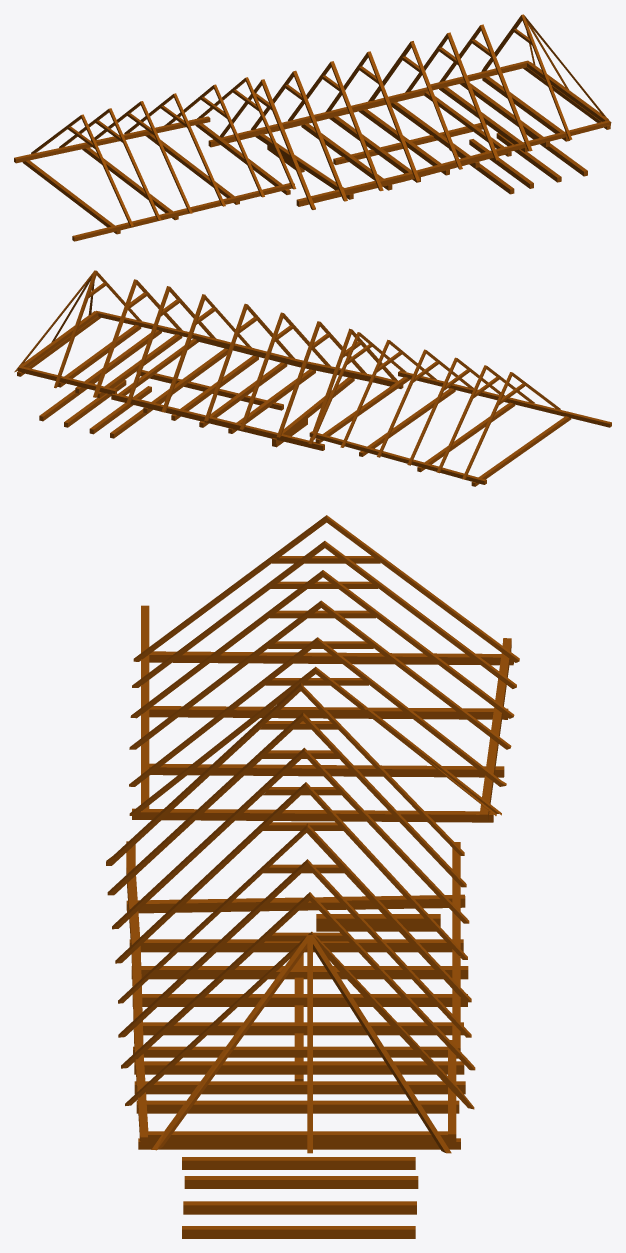
File: krovy.dae
The picture shows the model from 3 angles, top to bottom: view 1: azimuth 30°, elevation 25°; view 2: azimuth 150°, elevation 25°; view 3: azimuth 270°, elevation 25°; orthographic projection. The views are drawn at different scales.
Parts seen in each view (by area): view 1: group_15, group_18, group_22, group_47, group_48, group_51, group_46, group_53, group_17, group_24, group_21, group_12 (+30 smaller); view 2: group_15, group_18, group_22, group_48, group_47, group_46, group_51, group_53, group_17, group_21, group_24, group_12 (+30 smaller); view 3: group_11, group_60, group_46, group_47, group_48, group_51, group_10, group_9, group_53, group_21, group_0, group_1 (+37 smaller).
Boxes of the visible parts, x1,y1,x2,y2 form: group_15: [208, 87, 428, 147]; group_18: [72, 183, 294, 241]; group_22: [14, 116, 210, 163]; group_47: [325, 51, 419, 180]; group_48: [368, 41, 462, 169]; group_51: [405, 32, 499, 160]; group_46: [439, 24, 532, 151]; group_53: [481, 14, 568, 131]; group_17: [401, 146, 507, 181]; group_24: [333, 123, 486, 164]; group_21: [22, 160, 120, 234]; group_12: [359, 109, 449, 175]; group_15: [111, 393, 324, 450]; group_18: [398, 370, 611, 427]; group_22: [309, 431, 486, 484]; group_48: [161, 294, 251, 412]; group_47: [204, 303, 294, 421]; group_46: [93, 279, 182, 397]; group_51: [126, 286, 215, 404]; group_53: [54, 270, 139, 388]; group_17: [196, 334, 299, 366]; group_21: [471, 416, 571, 486]; group_24: [136, 370, 283, 410]; group_12: [171, 355, 258, 420]; group_11: [136, 1100, 459, 1113]; group_60: [134, 1081, 465, 1094]; group_46: [121, 892, 475, 1070]; group_47: [115, 782, 467, 963]; group_48: [118, 823, 471, 1003]; group_51: [118, 859, 471, 1037]; group_10: [134, 1061, 464, 1074]; group_9: [143, 1022, 463, 1035]; group_53: [140, 931, 474, 1109]; group_21: [149, 651, 513, 665]; group_0: [148, 1131, 447, 1142]; group_1: [132, 808, 493, 822].
Size of the model in its own units: 836 by 288 by 218.
